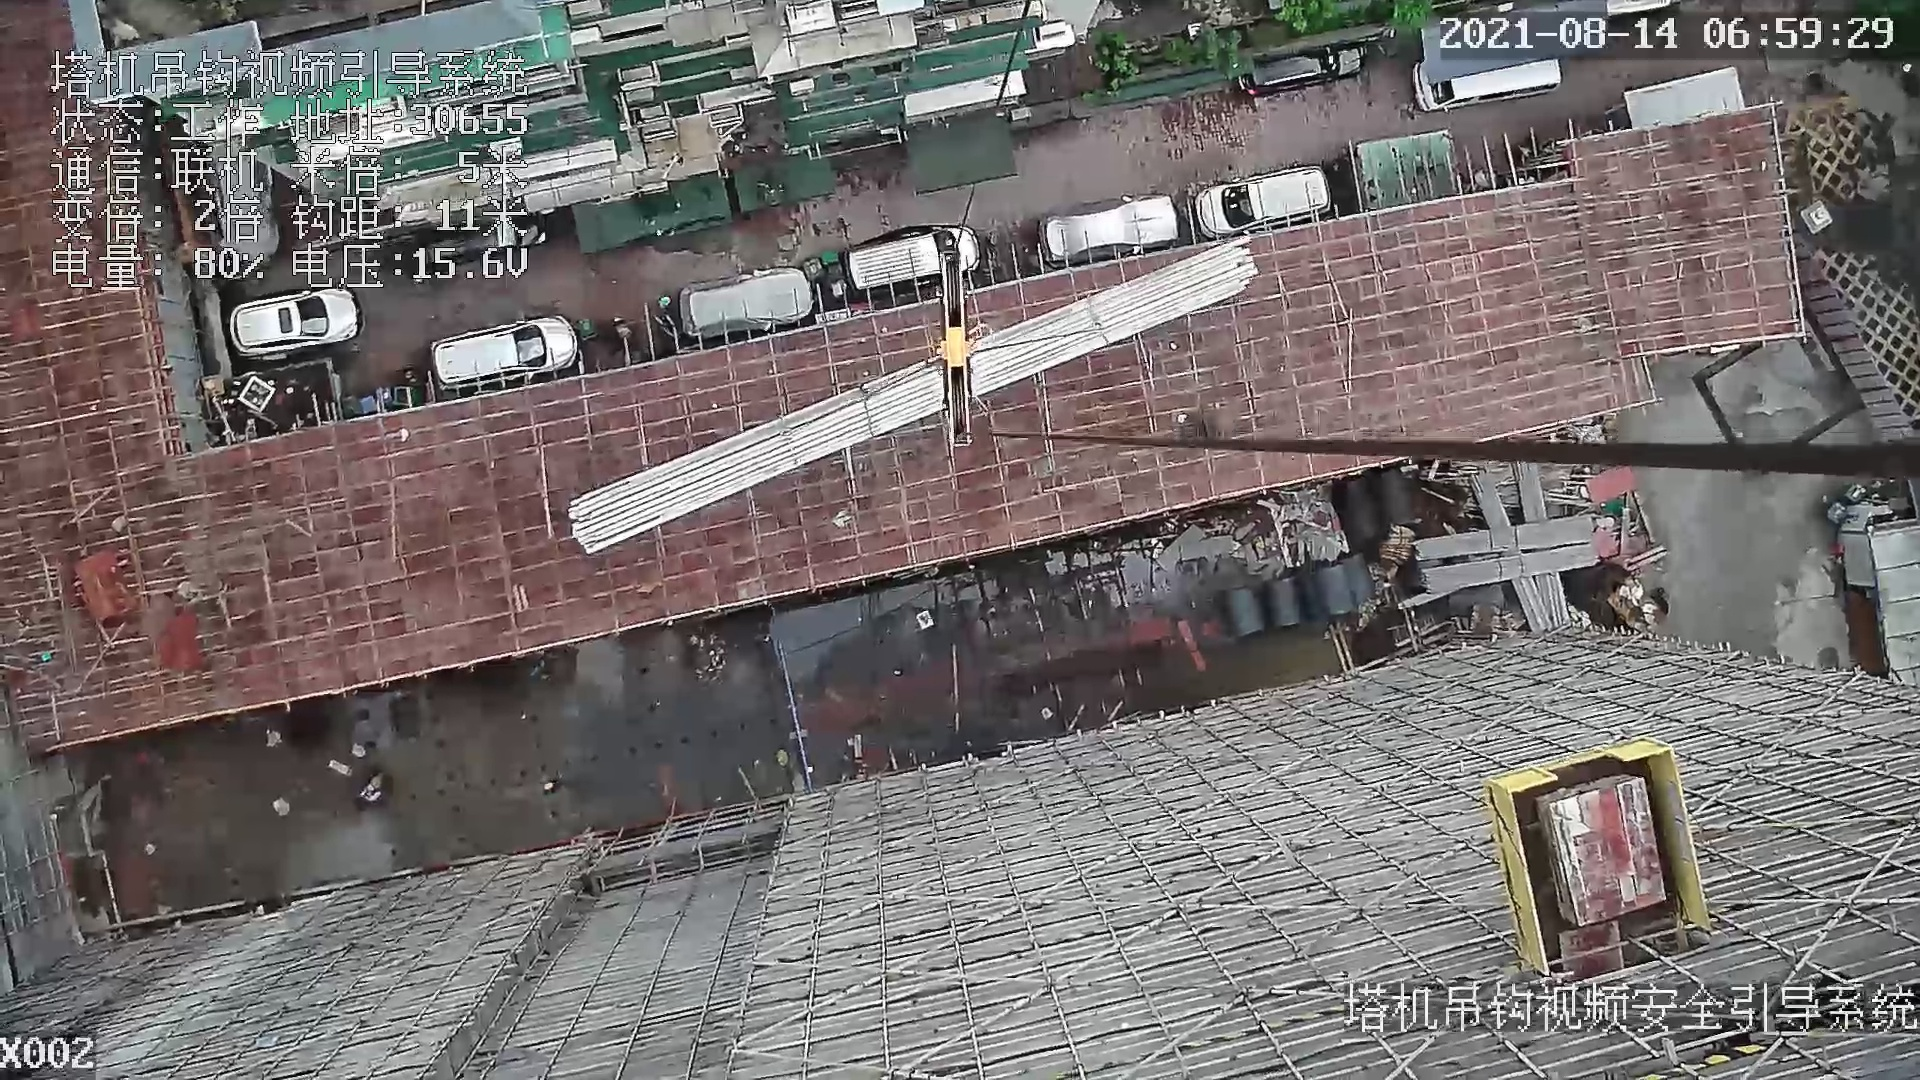board: (1535, 775, 1667, 930)
hook: (928, 244, 997, 447)
rebar: (570, 231, 1258, 556), (1473, 473, 1551, 632), (1514, 463, 1571, 626), (1424, 543, 1600, 595), (1418, 514, 1592, 560)
wood: (1379, 525, 1414, 564)
